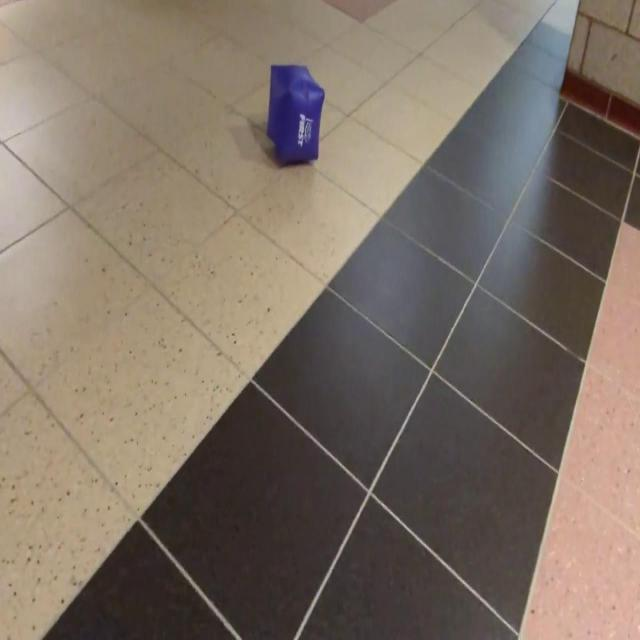frc_cube: (263, 65, 325, 163)
